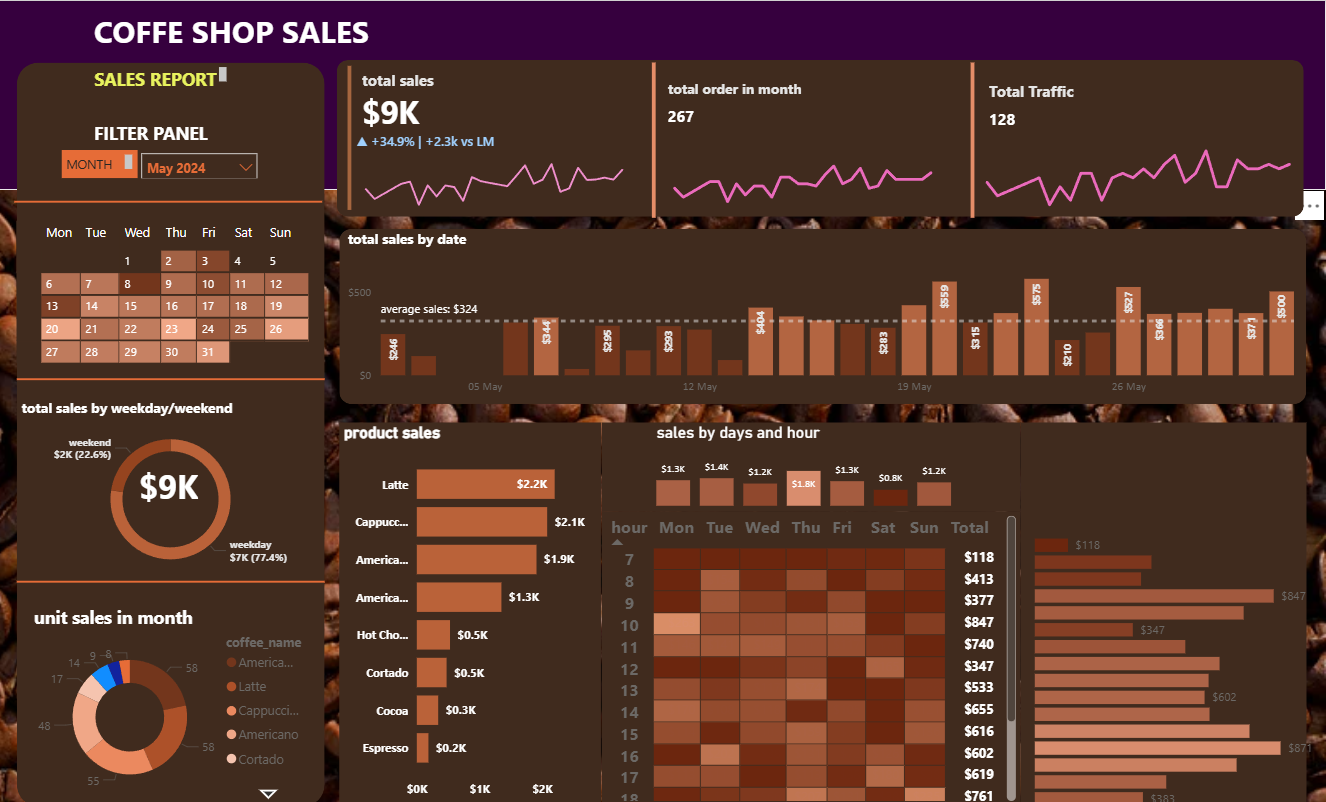

This screenshot's page, from the dashboard's own definition file:
{"tool":"powerbi","page":{"name":"Page 1","canvas":[1400,850],"ordinal":0},"visuals":[{"type":"shape","box":[0,0,1400.1,200],"z":0},{"type":"cardVisual","fields":{"Data":["index.total sales"]},"box":[363.8,64.9,300.5,162.4],"z":0,"group":"g1"},{"type":"shape","box":[19.9,65.5,324.7,784.8],"z":1000},{"type":"lineChart","fields":{"Category":["date table.Date Hierarchy.Date"],"Y":["index.total sales"]},"box":[372.6,140.6,300.5,85.5],"z":1000,"group":"g1"},{"type":"lineChart","fields":{"Category":["date table.Date Hierarchy.Date"],"Y":["index.total sales"]},"box":[710.7,65.5,666.6,160.9],"z":2000},{"type":"shape","box":[357.5,62.7,1019.8,165.2],"z":3000},{"type":"textbox","box":[96.9,7.1,304.8,58.4],"z":4000},{"type":"slicer","fields":{"Values":["date table.month year"]},"box":[146.7,156.7,132.5,31.3],"z":5000},{"type":"group","id":"g1","title":"Group 1","box":[363.8,64.9,309.3,162.4],"z":6000},{"type":"pivotTable","fields":{"Rows":["date table.week number"],"Columns":["date table.day name"],"Values":["Min(date table.day number)"]},"box":[14.2,227.9,330.4,190.9],"z":7000},{"type":"donutChart","fields":{"Category":["date table.weekday/weekend"],"Y":["index.total sales"]},"box":[19.9,418.7,324.7,195.1],"z":8000},{"type":"cardVisual","fields":{"Data":["index.total sales"]},"box":[132.5,464.3,99.7,75.5],"z":9000},{"type":"shape","box":[19.9,376,324.7,48.4],"z":10000},{"type":"shape","box":[17.1,188,324.7,48.4],"z":11000},{"type":"shape","box":[19.9,589.6,324.7,48.4],"z":12000},{"type":"shape","box":[360.3,240.7,1019.8,185],"z":13000},{"type":"columnChart","fields":{"Category":["index.date"],"Y":["index.total sales"]},"box":[363.2,240.7,1014.1,183.7],"z":14000},{"type":"clusteredBarChart","title":"product sales ","fields":{"Category":["index.coffee_name"],"Y":["index.total sales"]},"box":[360.3,445.8,276.3,404.5],"z":15000},{"type":"pivotTable","fields":{"Rows":["index.hour"],"Columns":["date table.day name"],"Values":["index.total sales"]},"box":[636.6,539.8,441.5,310.5],"z":16000},{"type":"shape","box":[1078.2,445.8,301.9,404.5],"z":17000},{"type":"shape","box":[636.6,445.8,441.5,94],"z":18000},{"type":"columnChart","title":"sales by days and hour","fields":{"Y":["index.total sales"],"Category":["date table.day name"]},"box":[689.3,445.8,321.9,94],"z":19000},{"type":"clusteredBarChart","fields":{"Category":["index.hour"],"Y":["index.total sales"]},"box":[1089.6,539.8,300.5,310.5],"z":20000},{"type":"textbox","box":[66.9,158.1,79.8,29.9],"z":21000},{"type":"textbox","box":[96.9,65.5,149.5,34.2],"z":22000},{"type":"textbox","box":[96.9,122.5,149.5,45.6],"z":23000},{"type":"donutChart","title":"unit sales in month","fields":{"Y":["CountNonNull(index.coffee_name)"],"Category":["index.coffee_name"]},"box":[32.8,638.1,300.5,212.2],"z":24000},{"type":"cardVisual","fields":{"Data":["date table.total order in month"]},"box":[689.3,65.5,321.9,81.2],"z":25000},{"type":"lineChart","fields":{"Y":["date table.total order in month"],"Category":["date table.Date.Variation.Date Hierarchy.Year","date table.Date.Variation.Date Hierarchy.Quarter","date table.Date.Variation.Date Hierarchy.Month","date table.Date.Variation.Date Hierarchy.Day"]},"box":[699.3,153.8,300.5,66.9],"z":26000},{"type":"shape","box":[663.7,65.5,57,163.8],"z":27000},{"type":"shape","box":[999.8,65.5,57,163.8],"z":28000},{"type":"cardVisual","fields":{"Data":["date table.Total Traffic"]},"box":[1028.3,62.7,300.5,94],"z":29000},{"type":"lineChart","fields":{"Y":["date table.Total Traffic"],"Category":["date table.Date.Variation.Date Hierarchy.Year","date table.Date.Variation.Date Hierarchy.Quarter","date table.Date.Variation.Date Hierarchy.Month","date table.Date.Variation.Date Hierarchy.Day"]},"box":[1028.3,135.3,348.9,91.2],"z":30000}]}

Visuals, with their boxes in screenshot pixels (x1, y1, x2, y2), scaled from the page's 1400x850 canvas onto the 1326x802 screenshot:
shape: [left=0, top=0, right=1325, bottom=189]
cardVisual - index.total sales: [left=345, top=61, right=629, bottom=214]
shape: [left=19, top=62, right=326, bottom=801]
lineChart - date table.Date Hierarchy.Date x index.total sales: [left=353, top=133, right=638, bottom=213]
lineChart - date table.Date Hierarchy.Date x index.total sales: [left=673, top=62, right=1304, bottom=214]
shape: [left=339, top=59, right=1304, bottom=215]
textbox: [left=92, top=7, right=380, bottom=62]
slicer - date table.month year: [left=139, top=148, right=264, bottom=177]
"Group 1" group: [left=345, top=61, right=638, bottom=214]
pivotTable - date table.week number x date table.day name: [left=13, top=215, right=326, bottom=395]
donutChart - date table.weekday/weekend x index.total sales: [left=19, top=395, right=326, bottom=579]
cardVisual - index.total sales: [left=125, top=438, right=220, bottom=509]
shape: [left=19, top=355, right=326, bottom=400]
shape: [left=16, top=177, right=324, bottom=223]
shape: [left=19, top=556, right=326, bottom=602]
shape: [left=341, top=227, right=1307, bottom=402]
columnChart - index.date x index.total sales: [left=344, top=227, right=1304, bottom=400]
"product sales " clusteredBarChart: [left=341, top=421, right=603, bottom=801]
pivotTable - index.hour x date table.day name: [left=603, top=509, right=1021, bottom=801]
shape: [left=1021, top=421, right=1307, bottom=801]
shape: [left=603, top=421, right=1021, bottom=509]
"sales by days and hour" columnChart: [left=653, top=421, right=958, bottom=509]
clusteredBarChart - index.hour x index.total sales: [left=1032, top=509, right=1317, bottom=801]
textbox: [left=63, top=149, right=139, bottom=177]
textbox: [left=92, top=62, right=233, bottom=94]
textbox: [left=92, top=116, right=233, bottom=159]
"unit sales in month" donutChart: [left=31, top=602, right=316, bottom=801]
cardVisual - date table.total order in month: [left=653, top=62, right=958, bottom=138]
lineChart - date table.total order in month x date table.Date.Variation.Date Hierarchy.Year: [left=662, top=145, right=947, bottom=208]
shape: [left=629, top=62, right=683, bottom=216]
shape: [left=947, top=62, right=1001, bottom=216]
cardVisual - date table.Total Traffic: [left=974, top=59, right=1259, bottom=148]
lineChart - date table.Total Traffic x date table.Date.Variation.Date Hierarchy.Year: [left=974, top=128, right=1304, bottom=214]
